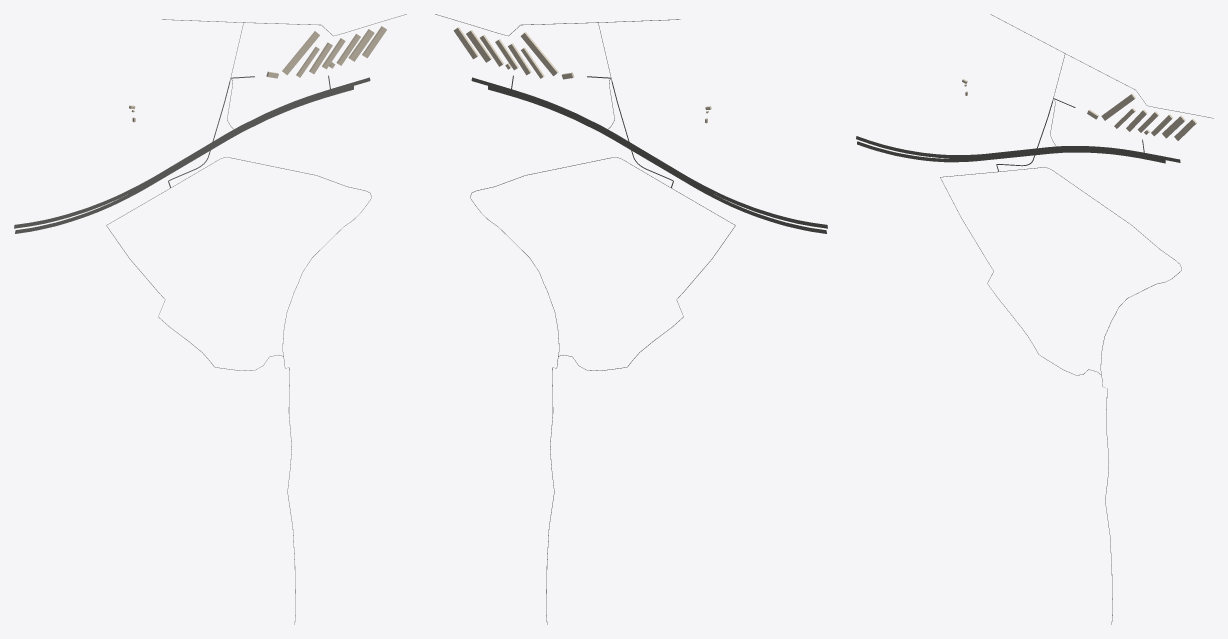
File: historic-palestine-09_36_3513_3301.glb
3 views of the same model, side by side, from view 1: azimuth 30°, elevation 25°; view 2: azimuth 150°, elevation 25°; view 3: azimuth 330°, elevation 25° (orthographic). The views are drawn at different scales.
Parts seen in each view (by area): view 1: Road 89.001, Road 89.002, Road .003; view 2: Road 89.001, Road 89.002, Road .003; view 3: Road 89.001, Road 89.002, Road .003.
Part boxes in pixels (box(x1,y1,x2,y2)): Road 89.001: box(15, 86, 353, 233); Road 89.002: box(14, 89, 330, 228); Road .003: box(106, 157, 371, 624); Road 89.001: box(488, 86, 826, 233); Road 89.002: box(511, 89, 827, 228); Road .003: box(470, 157, 735, 624); Road 89.001: box(857, 141, 1165, 163); Road 89.002: box(856, 136, 1144, 158); Road .003: box(940, 167, 1181, 624).
Bounding box in the file's own units: 1314 × 2039 × 8.7.
